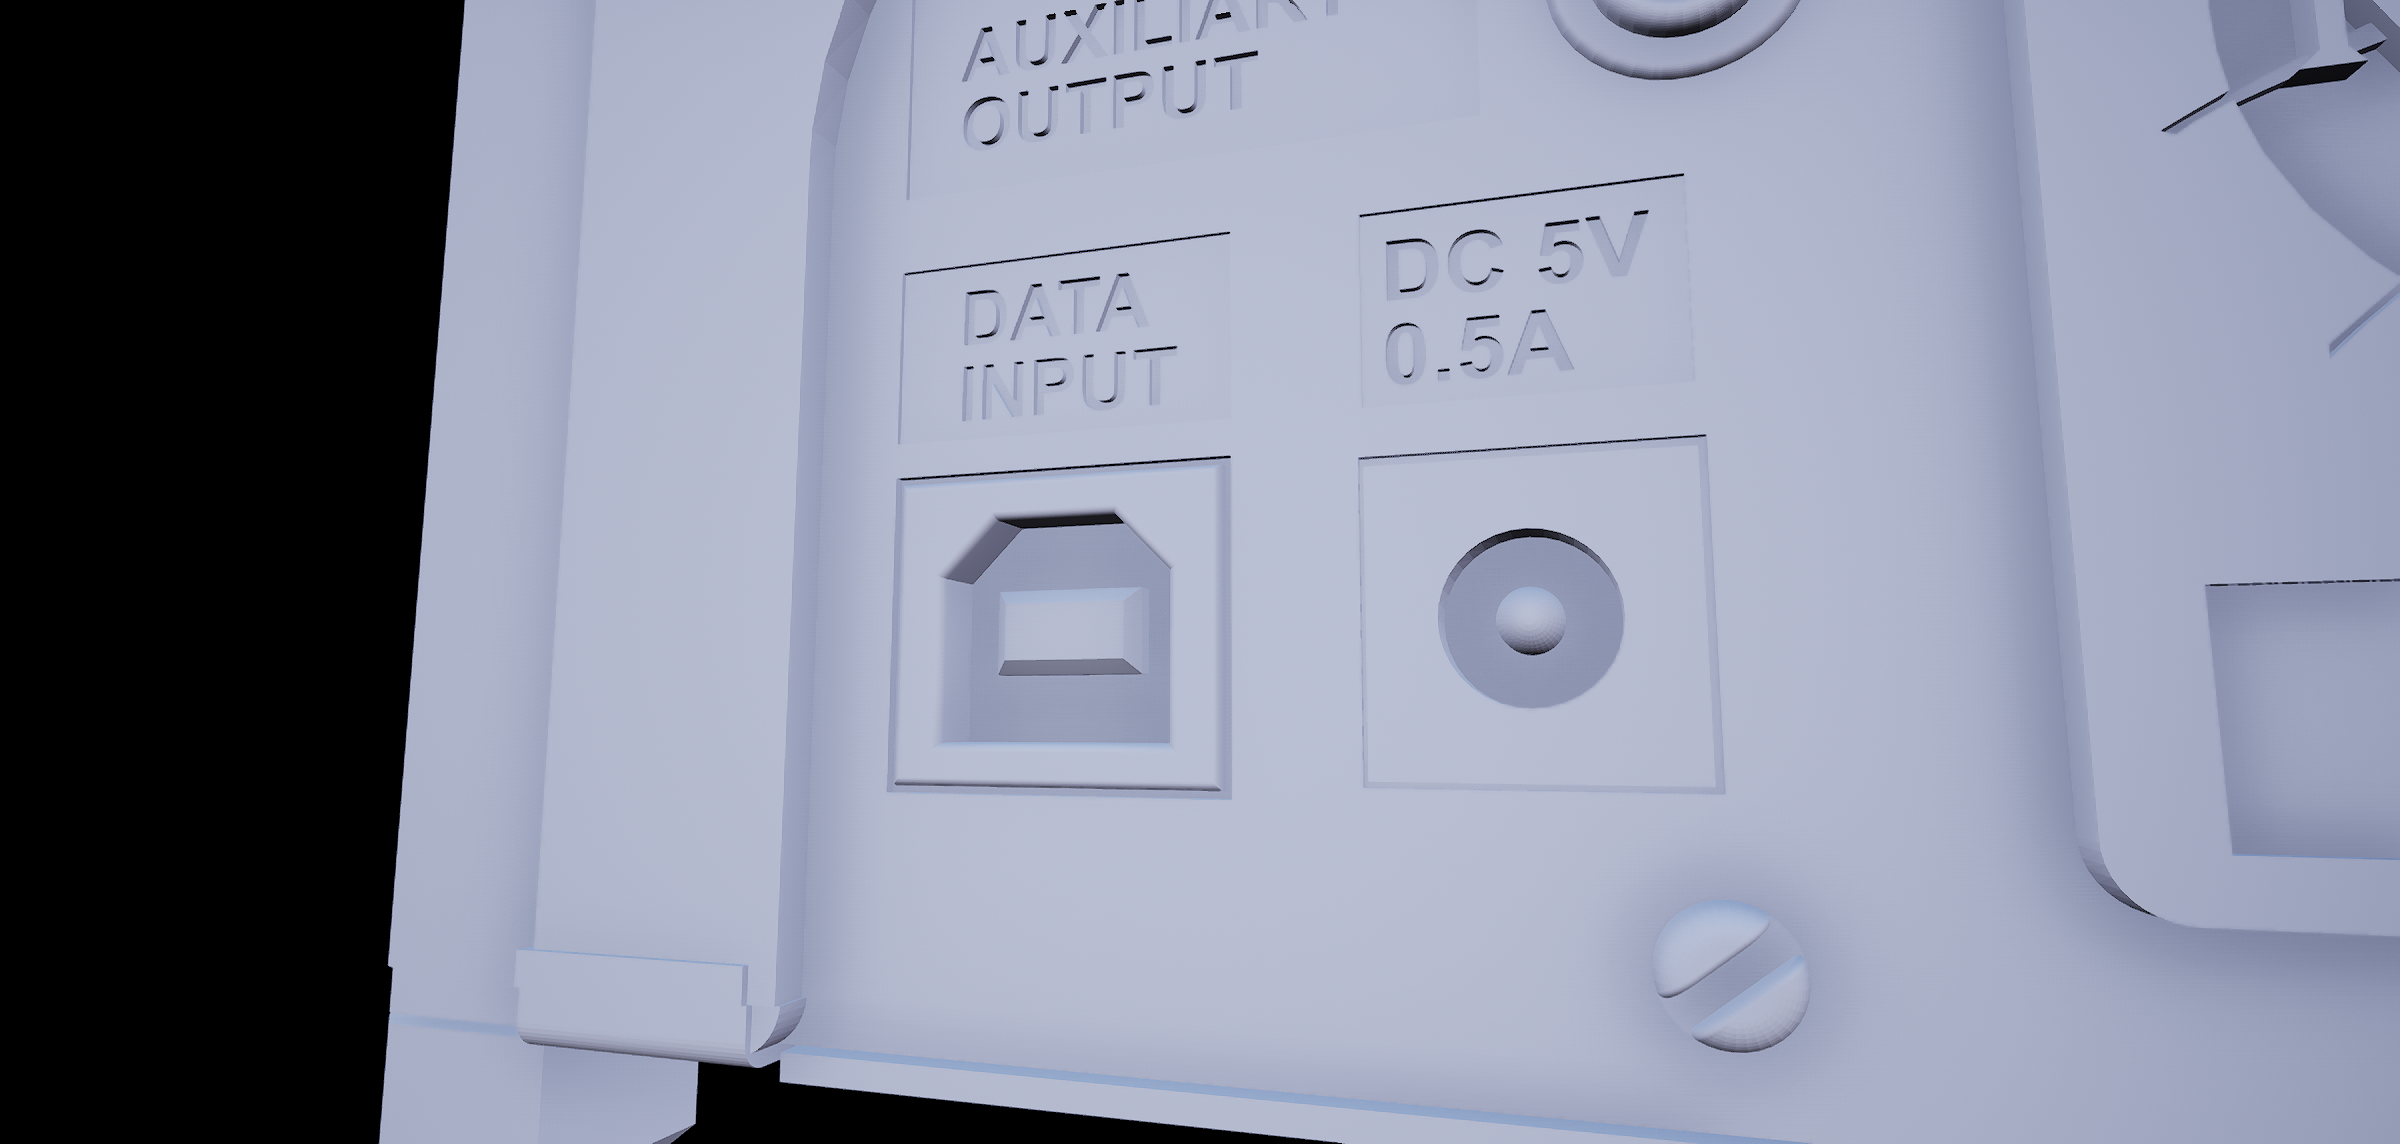aux: (1534, 2, 1828, 90)
dc: (1420, 521, 1647, 721)
usb: (934, 498, 1191, 763)
